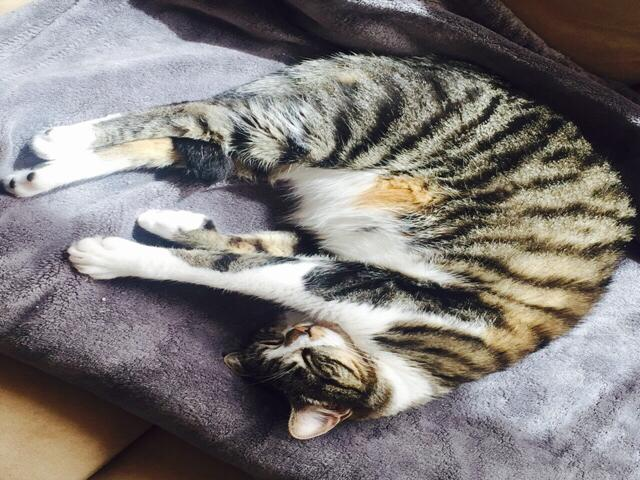playdoh: (2, 50, 632, 443)
